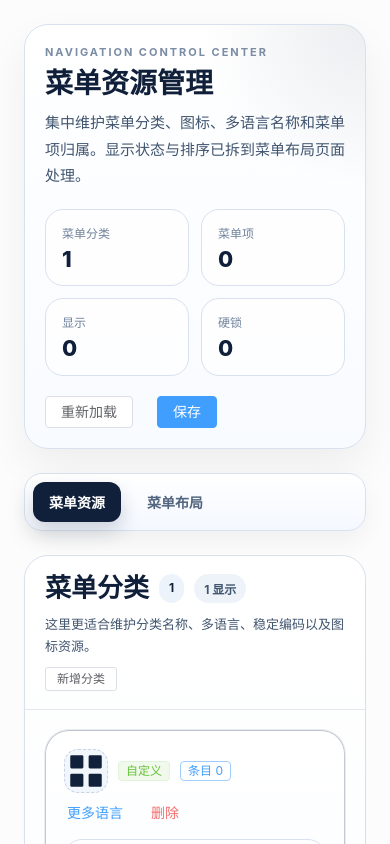
it: SystemMenuManagement › asks for confirmation before deleting an empty category
Click the button "删除" at (165, 813), box [148,803,182,823]
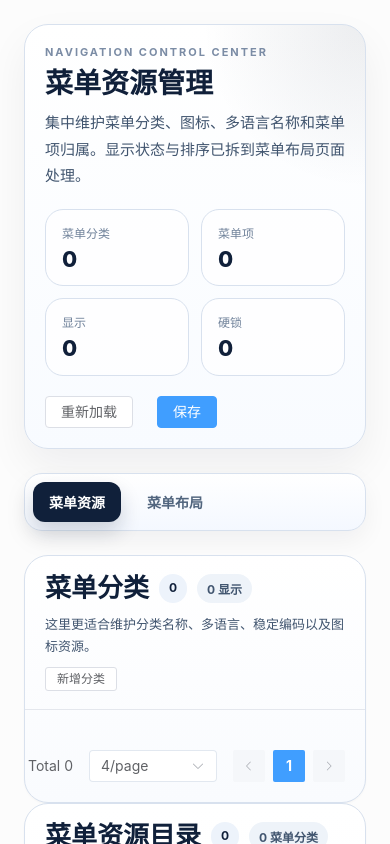
Result: no elements with class "category-item" are shown
